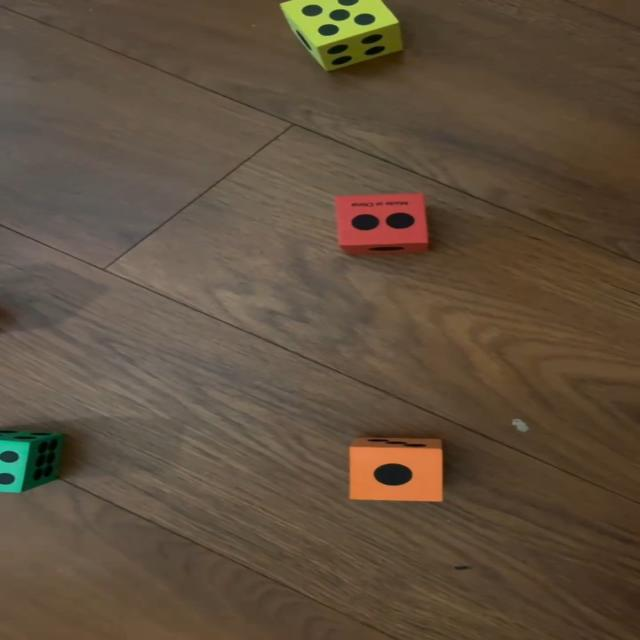red_block: (333, 193, 430, 255)
